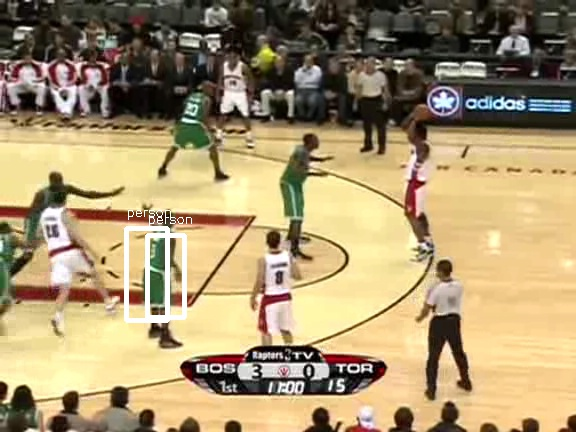person: (144, 229, 178, 310), (143, 229, 177, 310), (145, 229, 179, 310), (144, 228, 178, 309), (144, 230, 178, 311)
target_negative: (114, 7, 392, 269), (317, 67, 409, 428), (97, 389, 507, 416), (365, 415, 525, 417), (224, 380, 253, 385), (549, 324, 558, 326)
